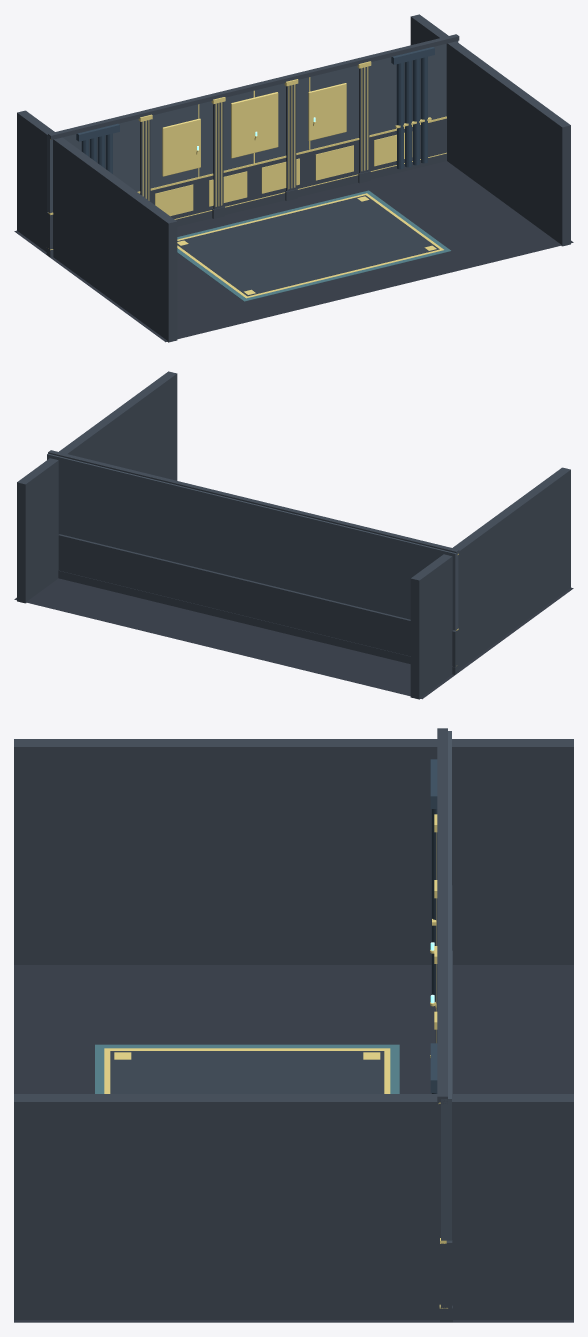
Rendered from room_cyber_casino.glb.
The picture shows the model from 3 angles, top to bottom: view 1: azimuth 30°, elevation 25°; view 2: azimuth 150°, elevation 25°; view 3: azimuth 270°, elevation 25°; orthographic projection. The views are drawn at different scales.
Visible parts, largest first — view 1: Floor, SideWall_Left, SideWall_Right, ClubRug_Inner, BackWall_Upper, BackWall_Lower, CrownMolding, FrameOuter_CenterGrandArt, ClubRug_Outer, FrameOuter_RightArt, FrameOuter_LeftArt, Baseboard (+15 smaller); view 2: BackWall_Upper, SideWall_Left, BackWall_Lower, Floor, SideWall_Right, Baseboard, CrownMolding; view 3: SideWall_Right, SideWall_Left, Floor, ClubRug_Inner, CrownMolding, BackWall_Upper, ClubRug_Outer, ClubRug_Stripe, BackWall_Lower, DraperyFold_Left_3.
Boxes of the visible parts, left/top/right/bottom form: Floor: left=14, top=161, right=573, bottom=342; SideWall_Left: left=17, top=110, right=177, bottom=342; SideWall_Right: left=410, top=14, right=570, bottom=246; ClubRug_Inner: left=177, top=195, right=439, bottom=296; BackWall_Upper: left=47, top=41, right=458, bottom=212; BackWall_Lower: left=47, top=118, right=446, bottom=249; CrownMolding: left=48, top=34, right=459, bottom=139; FrameOuter_CenterGrandArt: left=231, top=92, right=278, bottom=158; ClubRug_Outer: left=177, top=190, right=450, bottom=301; FrameOuter_RightArt: left=308, top=83, right=346, bottom=140; FrameOuter_LeftArt: left=162, top=118, right=200, bottom=176; Baseboard: left=46, top=153, right=446, bottom=257; BackWall_Upper: left=47, top=453, right=458, bottom=630; SideWall_Left: left=410, top=467, right=570, bottom=699; BackWall_Lower: left=58, top=534, right=458, bottom=667; Floor: left=14, top=578, right=573, bottom=699; SideWall_Right: left=17, top=371, right=177, bottom=603; Baseboard: left=58, top=570, right=458, bottom=674; CrownMolding: left=48, top=450, right=459, bottom=553; SideWall_Right: left=14, top=1094, right=573, bottom=1319; SideWall_Left: left=14, top=739, right=573, bottom=964; Floor: left=14, top=965, right=573, bottom=1322; ClubRug_Inner: left=110, top=1051, right=384, bottom=1093; CrownMolding: left=437, top=728, right=447, bottom=1104; BackWall_Upper: left=441, top=731, right=451, bottom=1240; ClubRug_Outer: left=95, top=1044, right=399, bottom=1093; ClubRug_Stripe: left=104, top=1048, right=390, bottom=1093; BackWall_Lower: left=440, top=885, right=452, bottom=1308; DraperyFold_Left_3: left=431, top=809, right=437, bottom=1000.
Bounding box in the file's own units: 28 × 8.09 × 18.
